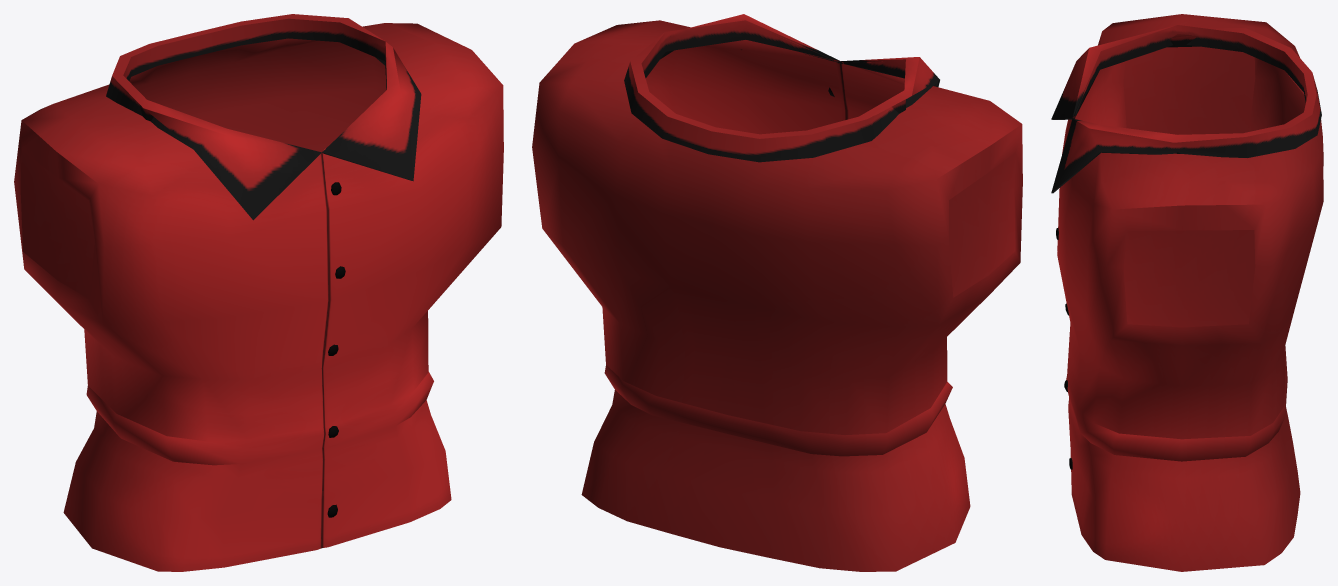
The model's file is shirt.obj.
The picture shows the model from 3 angles, left to right: view 1: azimuth 30°, elevation 25°; view 2: azimuth 150°, elevation 25°; view 3: azimuth 270°, elevation 25°; orthographic projection. The views are drawn at different scales.
Visible parts, largest first — view 1: shirt_torso; view 2: shirt_torso; view 3: shirt_torso.
Part boxes in pixels (x1,y1,x2,y2): shirt_torso: [14, 14, 503, 571]; shirt_torso: [532, 14, 1022, 571]; shirt_torso: [1051, 14, 1323, 571].
Bounding box in the file's own units: 2.12 × 2.14 × 1.28.
